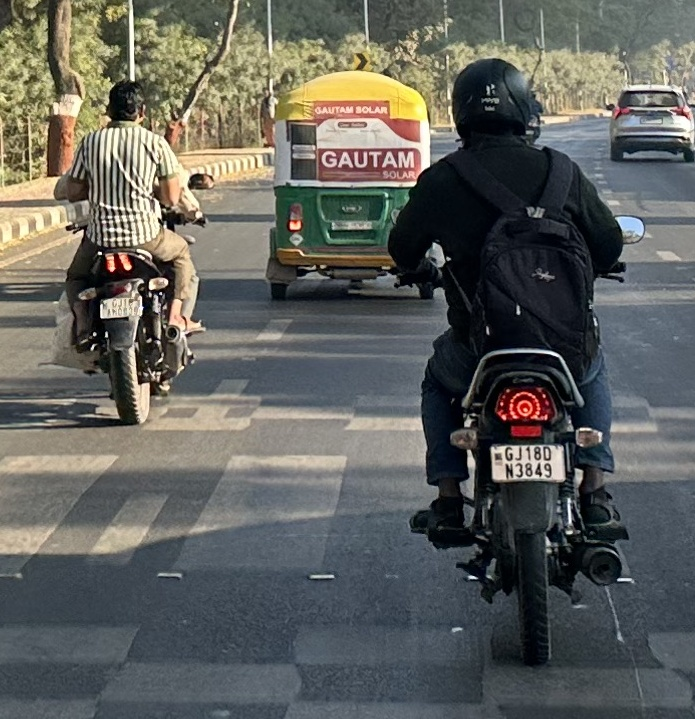BikeWithRider: (379, 50, 653, 675), (44, 72, 221, 431)
Helmet: (441, 51, 544, 154)
NoHelmet: (96, 73, 155, 134)
